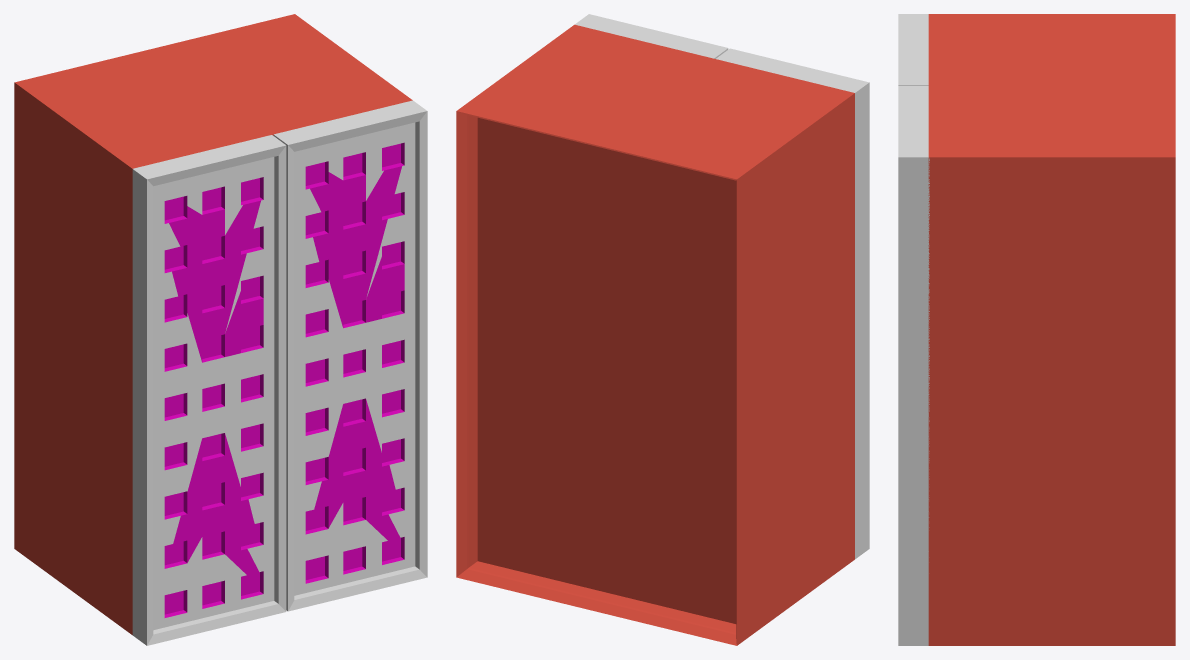
File: Portal Interior.fbx
3 renders of one model, left to right at view 1: azimuth 30°, elevation 25°; view 2: azimuth 150°, elevation 25°; view 3: azimuth 270°, elevation 25°, orthographic. The views are drawn at different scales.
Parts seen in each view (by area): view 1: Circle.005, Cube.001, Cube; view 2: Circle.000, Circle.005, Cube.001, Cube; view 3: Circle.005, Cube, Cube.001.
Part boxes in pixels (x1,y1,x2,y2): Circle.005: [14, 14, 412, 634]; Cube.001: [132, 135, 286, 645]; Cube: [273, 100, 427, 611]; Circle.000: [477, 117, 736, 623]; Circle.005: [456, 24, 854, 645]; Cube.001: [716, 48, 869, 559]; Cube: [575, 14, 728, 58]; Circle.005: [928, 14, 1175, 645]; Cube: [898, 86, 929, 645]; Cube.001: [898, 14, 928, 85].
Bounding box in the file's own units: 83.58 × 133 × 68.41.
